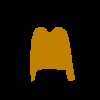maglia: (30, 26, 75, 82)
